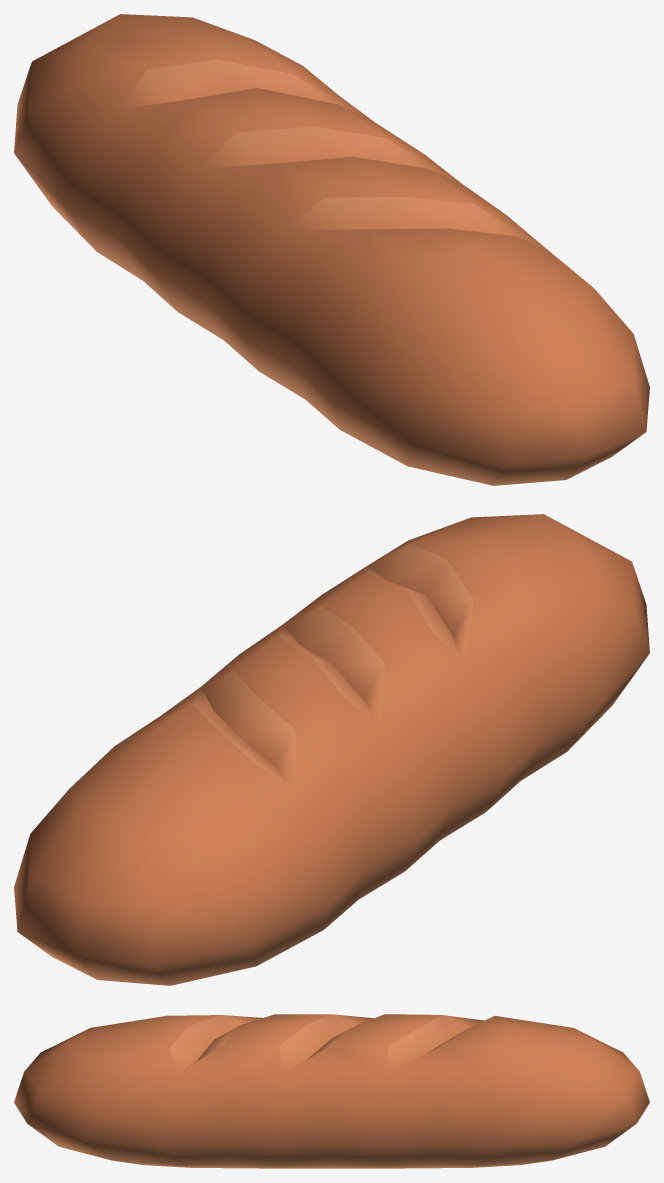
Rendered from Baguette.glb.
The picture shows the model from 3 angles, top to bottom: view 1: azimuth 30°, elevation 25°; view 2: azimuth 150°, elevation 25°; view 3: azimuth 270°, elevation 25°; orthographic projection. The views are drawn at different scales.
Visible parts, largest first — view 1: baguette; view 2: baguette; view 3: baguette.
Part boxes in pixels (box(x1,y1,x2,y2)): baguette: box(14, 14, 649, 485); baguette: box(14, 514, 649, 985); baguette: box(14, 1014, 649, 1168).
Size of the model in its own units: 0.3706 by 0.2716 by 1.23.
Materials: 1 (1 with a texture image).
